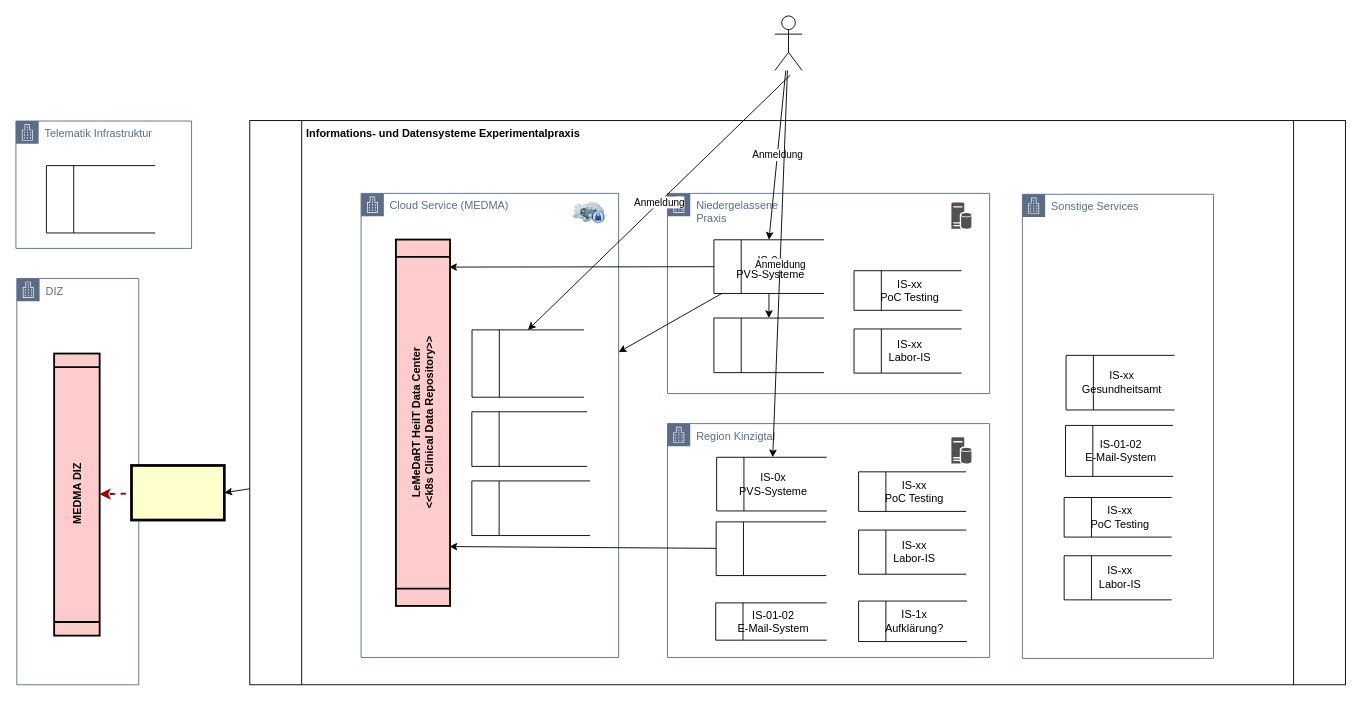
This 1361x701 diagram has some shape labels left out. Here are the shapes that lost their labels. From the top down, the centre of each, then its label:
(x=788, y=43): Patient
(x=100, y=199): IS-0x ePA
(x=527, y=363): IS-02 Assessment System (KIPROSPER)
(x=768, y=345): IS-01-01 E-Mail-System
(x=529, y=438): IS-1x Digitale Aufklärung?
(x=177, y=492): Pseudo- nymisierung
(x=530, y=508): IS-0x AI-Prädiktion (Decision Tree)
(x=770, y=548): IS-0x elpax
